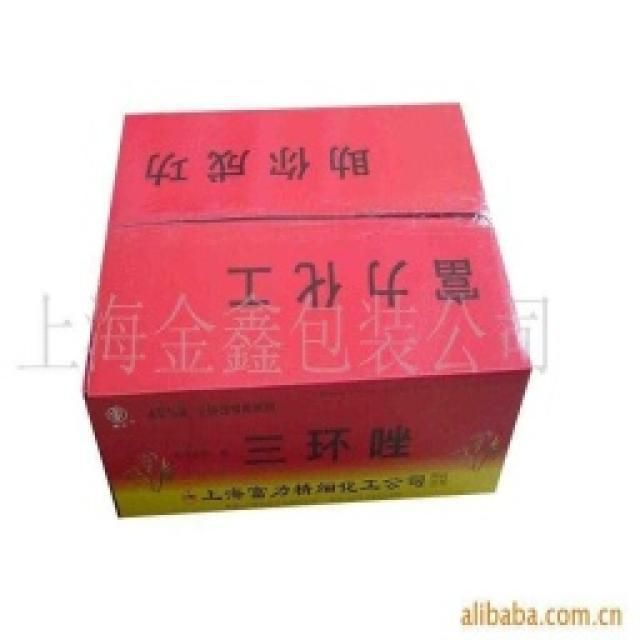box: (88, 83, 550, 527)
